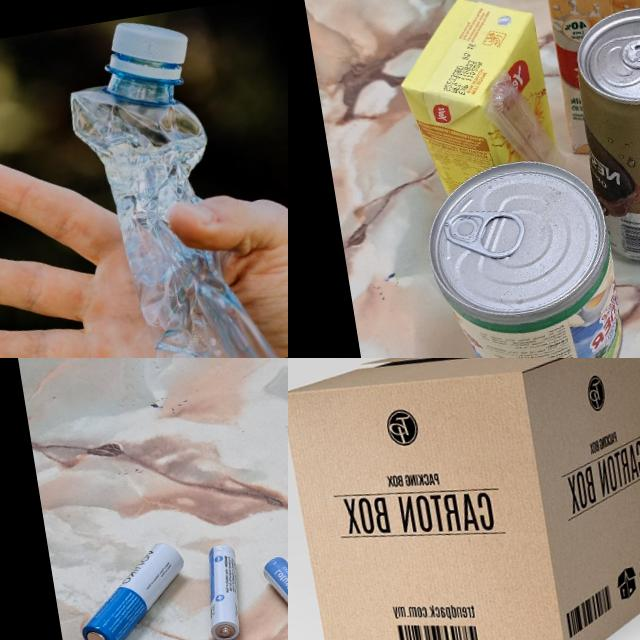aba de lata: (439, 200, 528, 266), (617, 30, 640, 72)
bateria: (68, 537, 199, 640), (195, 542, 251, 640), (258, 545, 288, 640)
caixinha: (387, 0, 561, 204), (534, 0, 640, 160)
garrafa plástica: (63, 55, 286, 358)
lata: (417, 147, 633, 358), (562, 0, 640, 267)
papelão: (288, 358, 640, 640)
tampa plástica: (104, 14, 192, 76)
